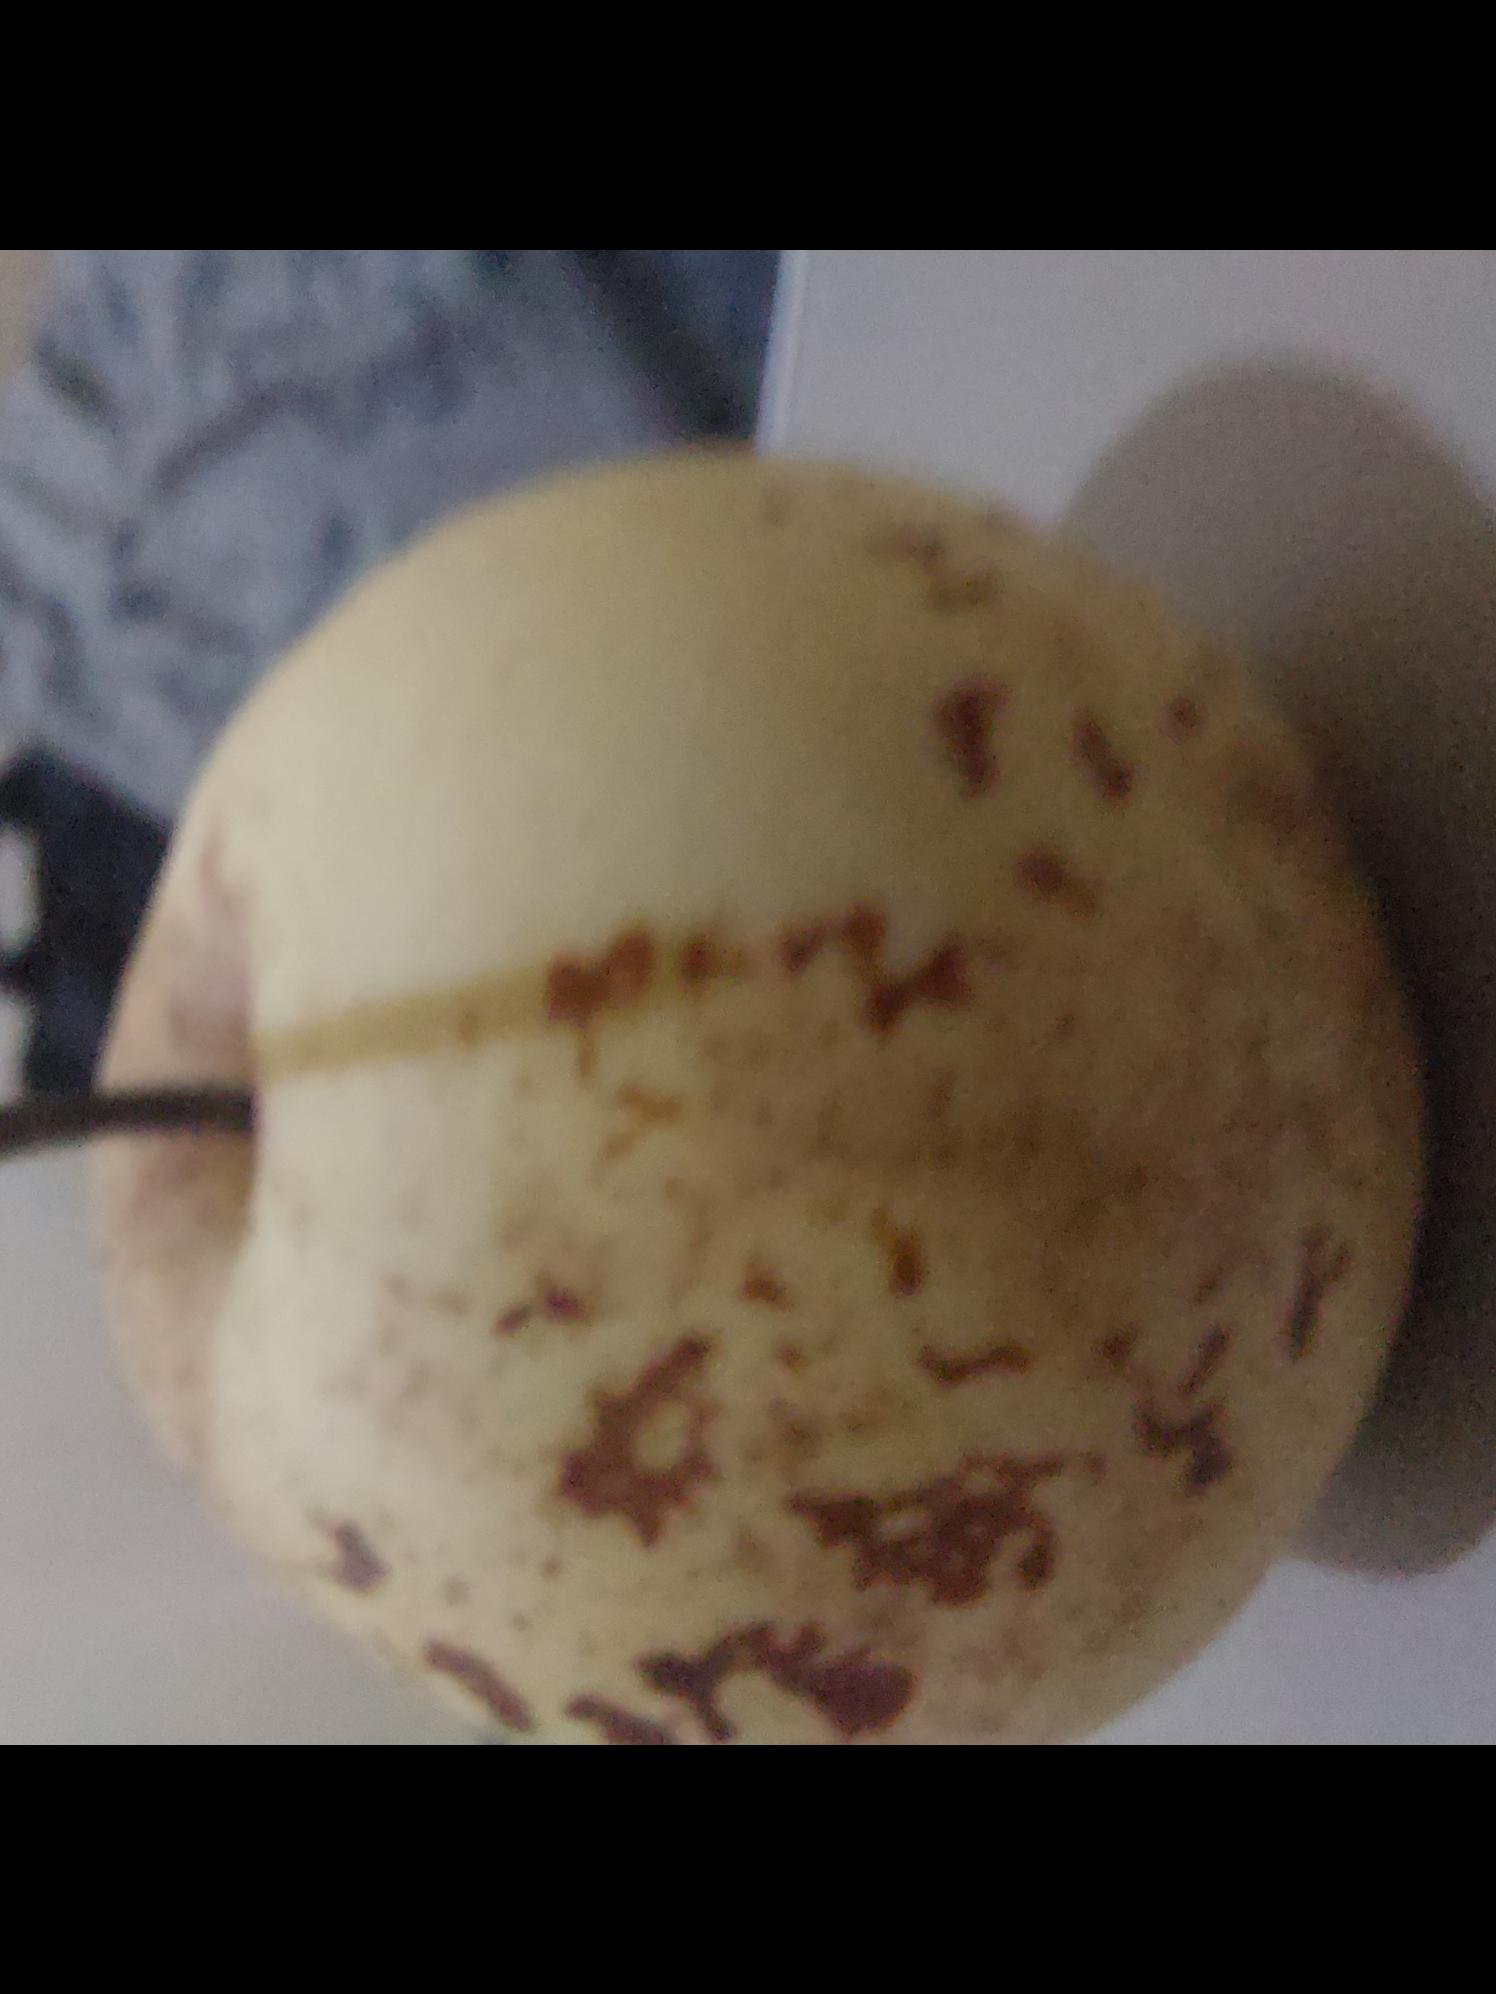Bad Pear: (126, 460, 1408, 1746)
